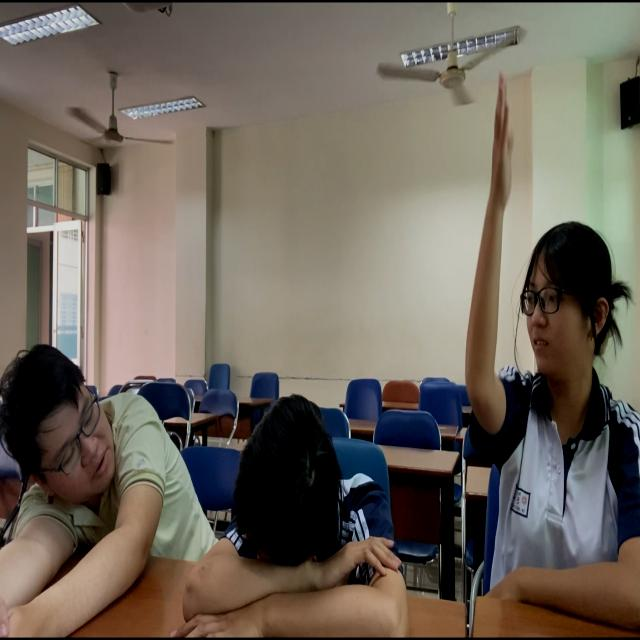raise_hand: (434, 58, 640, 640)
sleep: (1, 285, 233, 637), (160, 365, 426, 640)
